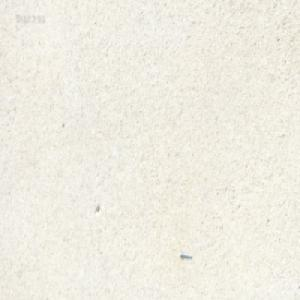Nail: (179, 249, 192, 258)
